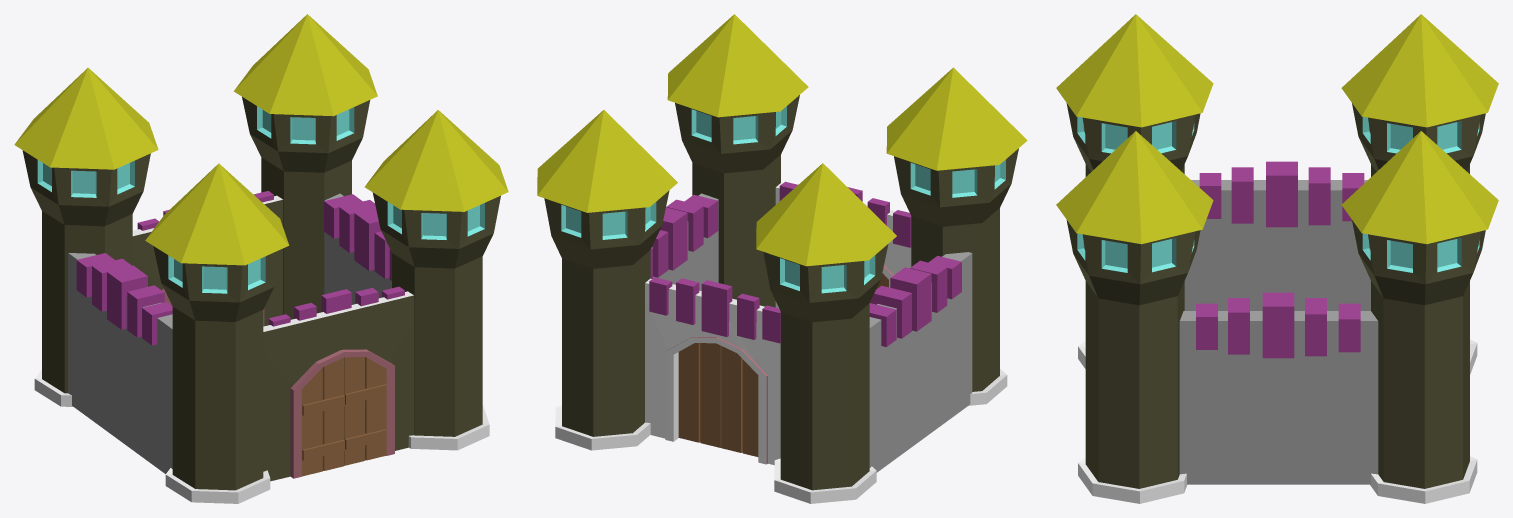
Rendered from castle_tumhali.fbx.
The picture shows the model from 3 angles, left to right: view 1: azimuth 30°, elevation 25°; view 2: azimuth 150°, elevation 25°; view 3: azimuth 270°, elevation 25°; orthographic projection. The views are drawn at different scales.
Parts seen in each view (by area): view 1: Castle_3_lvl_mat14, Castle_3_lvl_mat15, pCube3, pCube2, Castle_gate_3_1_mat, Castle_gate_3_2_mat; view 2: Castle_3_lvl_mat15, Castle_3_lvl_mat14, pCube3, pCube2, Castle_gate_3_2_mat1, Castle_gate_3_1_mat1; view 3: Castle_3_lvl_mat14, Castle_3_lvl_mat15, pCube2, pCube3.
Boxes of the visible parts, x1,y1,x2,y2 form: Castle_3_lvl_mat14: (145, 110, 508, 503); Castle_3_lvl_mat15: (14, 14, 377, 406); pCube3: (68, 253, 172, 473); pCube2: (324, 193, 391, 304); Castle_gate_3_1_mat: (301, 357, 344, 476); Castle_gate_3_2_mat: (344, 357, 386, 465); Castle_3_lvl_mat15: (537, 110, 896, 503); Castle_3_lvl_mat14: (667, 14, 1027, 405); pCube3: (869, 252, 972, 472); pCube2: (650, 193, 718, 290); Castle_gate_3_2_mat1: (678, 343, 721, 447); Castle_gate_3_1_mat1: (721, 346, 758, 456); Castle_3_lvl_mat14: (1056, 14, 1213, 503); Castle_3_lvl_mat15: (1341, 14, 1498, 503); pCube2: (1179, 292, 1378, 484); pCube3: (1184, 161, 1370, 310).
Size of the model in its own units: 506 by 450 by 518.
